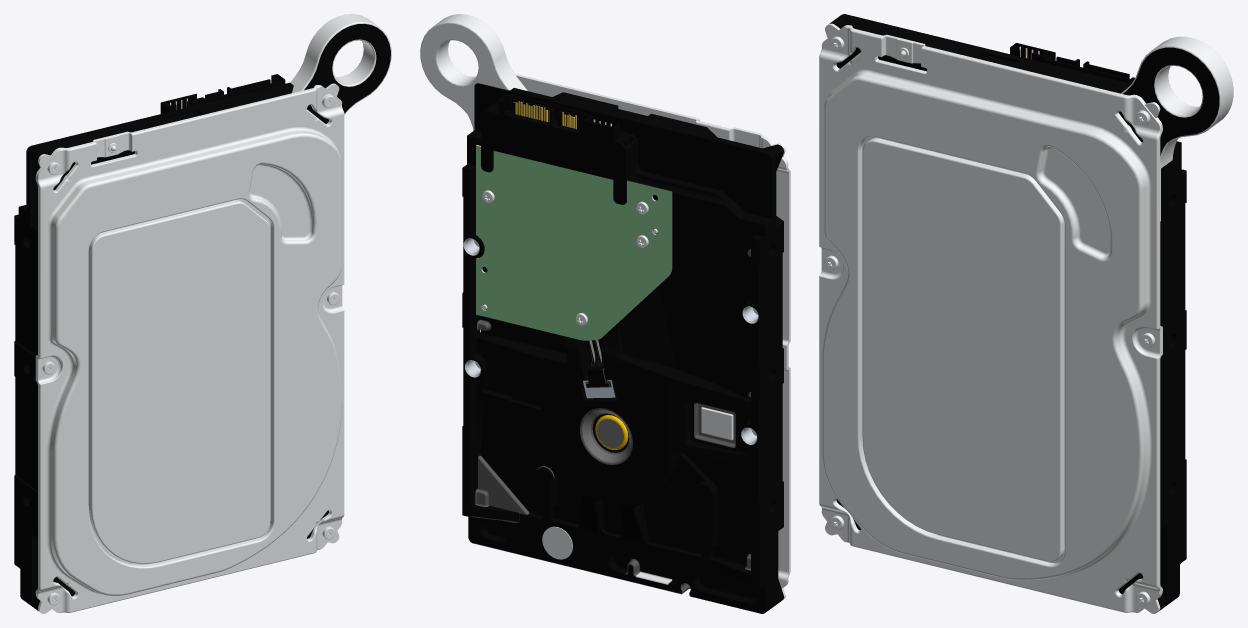
File: Volume_hub.glb
The picture shows the model from 3 angles, left to right: view 1: azimuth 30°, elevation 25°; view 2: azimuth 150°, elevation 25°; view 3: azimuth 330°, elevation 25°; orthographic projection. The views are drawn at different scales.
Parts seen in each view (by area): view 1: 3DGeom-2357_Mtl3_0, 3DGeom-2358_Mtl1_0; view 2: 3DGeom-2358_Mtl1_0, 3DGeom-2370_Mtl7_0, 3DGeom-2357_Mtl3_0, 3DGeom-2355_Mtl2_0, 3DGeom-2371_Mtl18_0, 3DGeom-2363_Mtl12_0, 3DGeom-2367_Mtl20_0; view 3: 3DGeom-2357_Mtl3_0, 3DGeom-2358_Mtl1_0.
Boxes of the visible parts, x1,y1,x2,y2 form: 3DGeom-2357_Mtl3_0: (35,14,391,613); 3DGeom-2358_Mtl1_0: (14,23,390,610); 3DGeom-2358_Mtl1_0: (462,83,783,613); 3DGeom-2370_Mtl7_0: (476,145,672,340); 3DGeom-2357_Mtl3_0: (420,14,790,599); 3DGeom-2355_Mtl2_0: (470,249,750,595); 3DGeom-2371_Mtl18_0: (582,410,631,462); 3DGeom-2363_Mtl12_0: (516,101,628,450); 3DGeom-2367_Mtl20_0: (465,239,758,442); 3DGeom-2357_Mtl3_0: (819,23,1233,613); 3DGeom-2358_Mtl1_0: (830,14,1219,610).
Bounding box in the file's own units: 0.0258 × 0.0356 × 0.00445.
